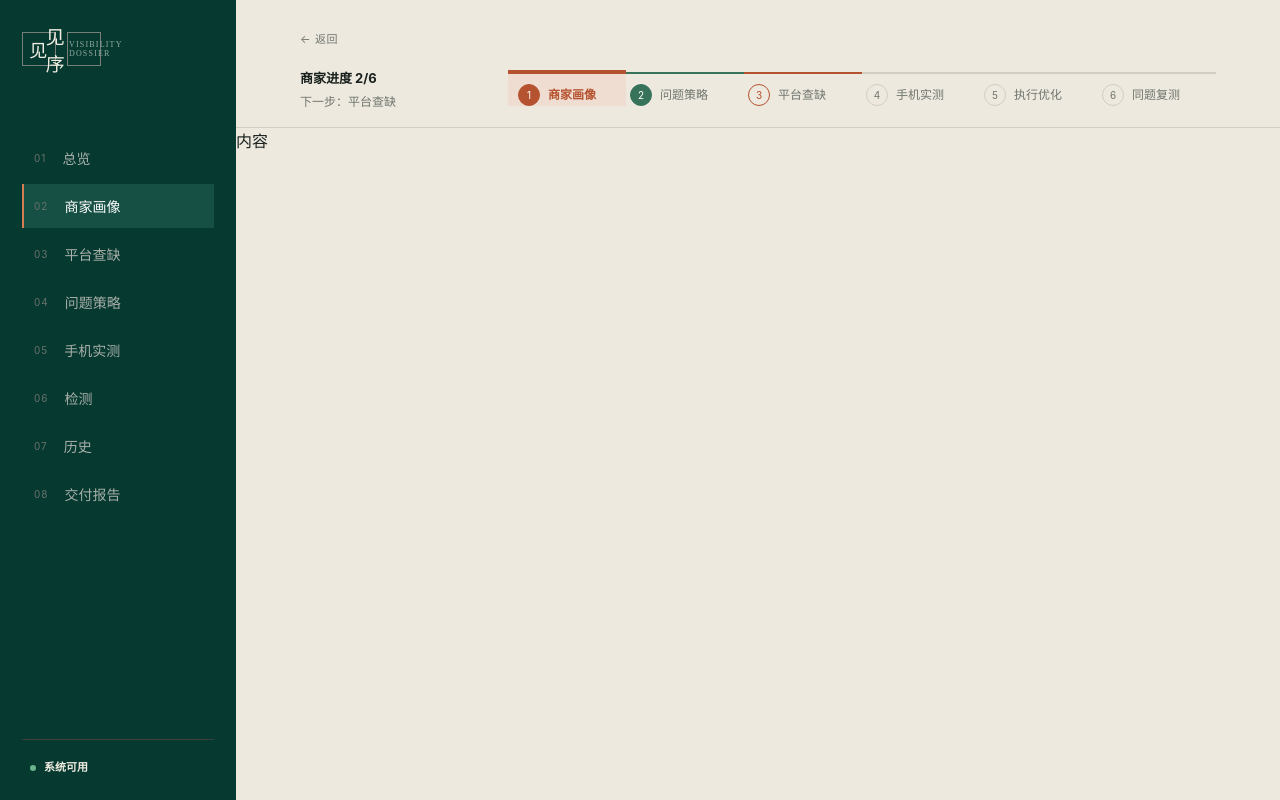
Test: shows whether the API, worker and required integrations are ready
Click the heading "系统可用" at (59, 767), box [30,760,88,774]
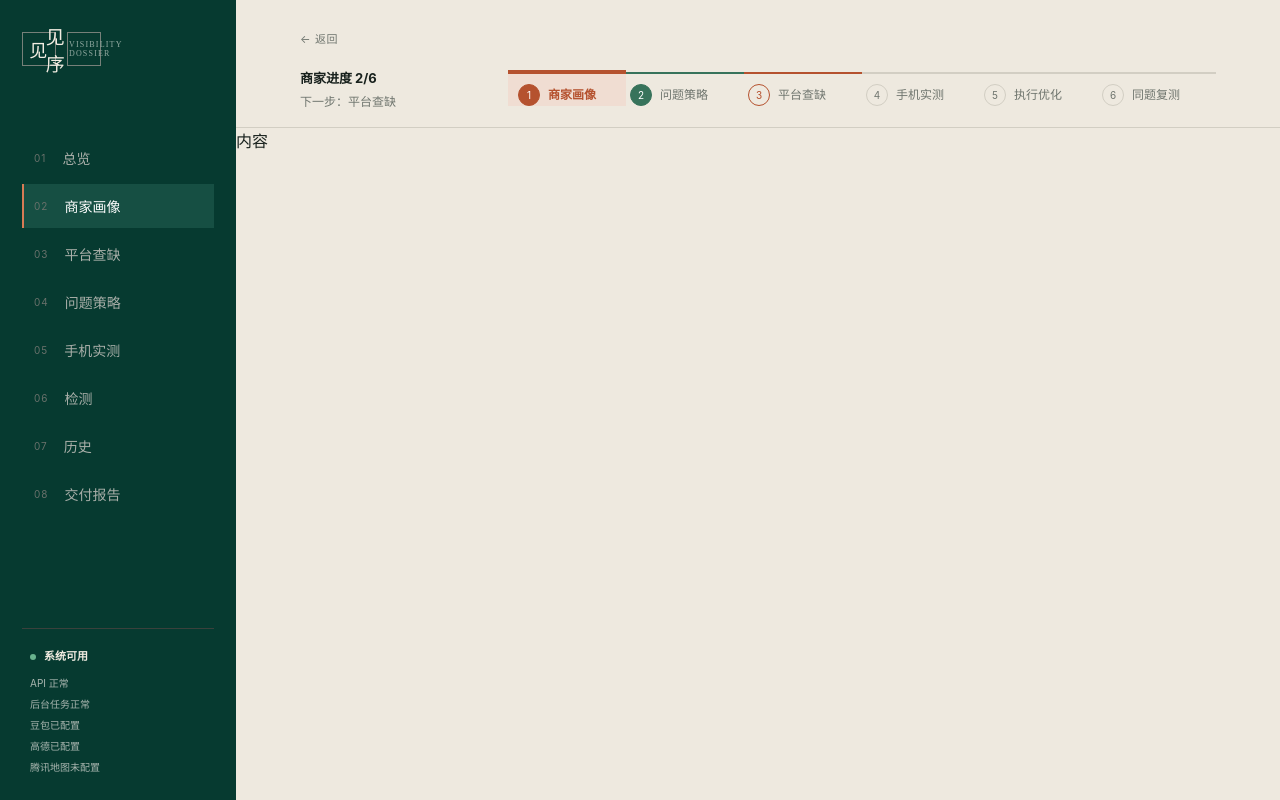
expect the list item "API 正常" is shown: met, box [30,677,69,689]
expect the list item "后台任务正常" is shown: met, box [30,698,90,710]
expect the list item "豆包已配置" is shown: met, box [30,719,80,731]
